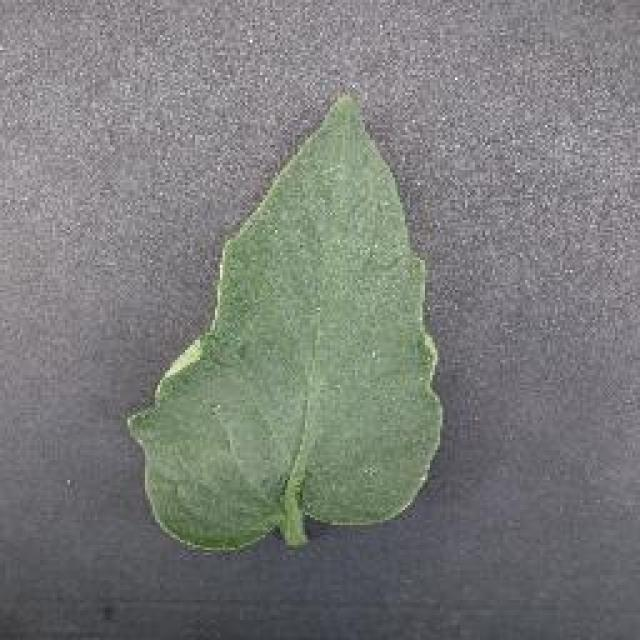Tomato healthy leaf: (146, 95, 442, 555)
